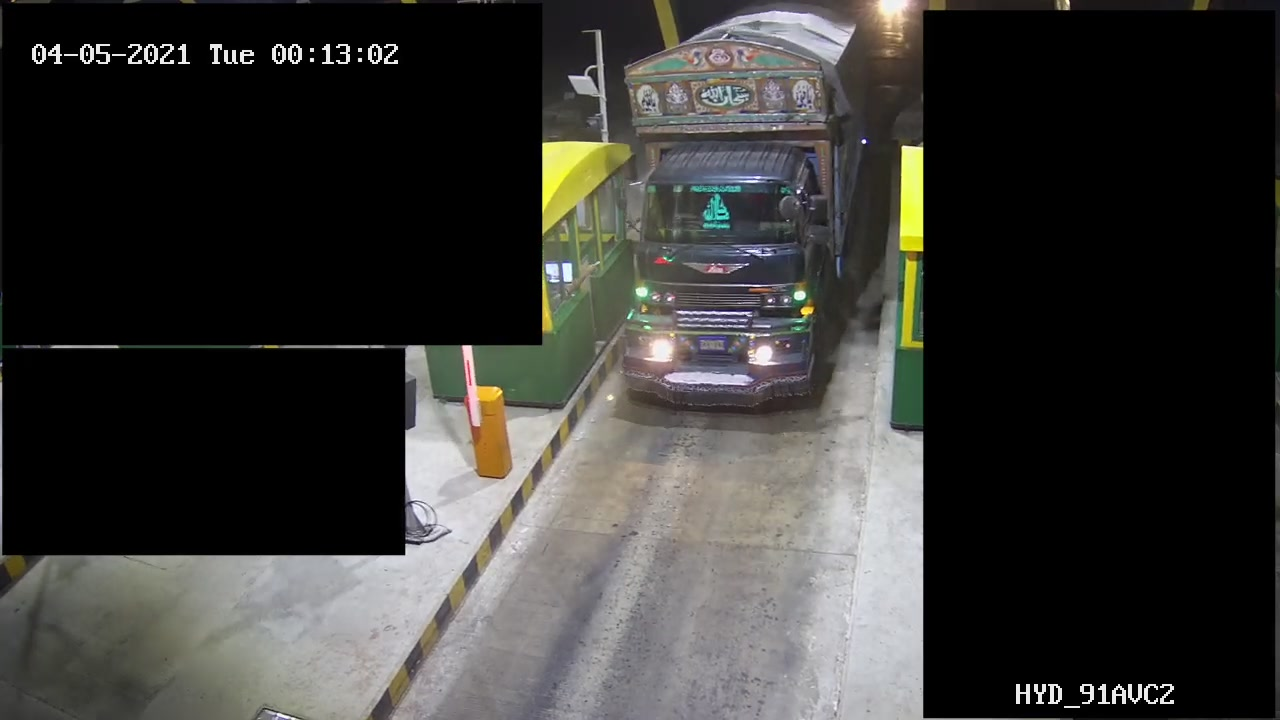F5: (603, 2, 867, 418)
